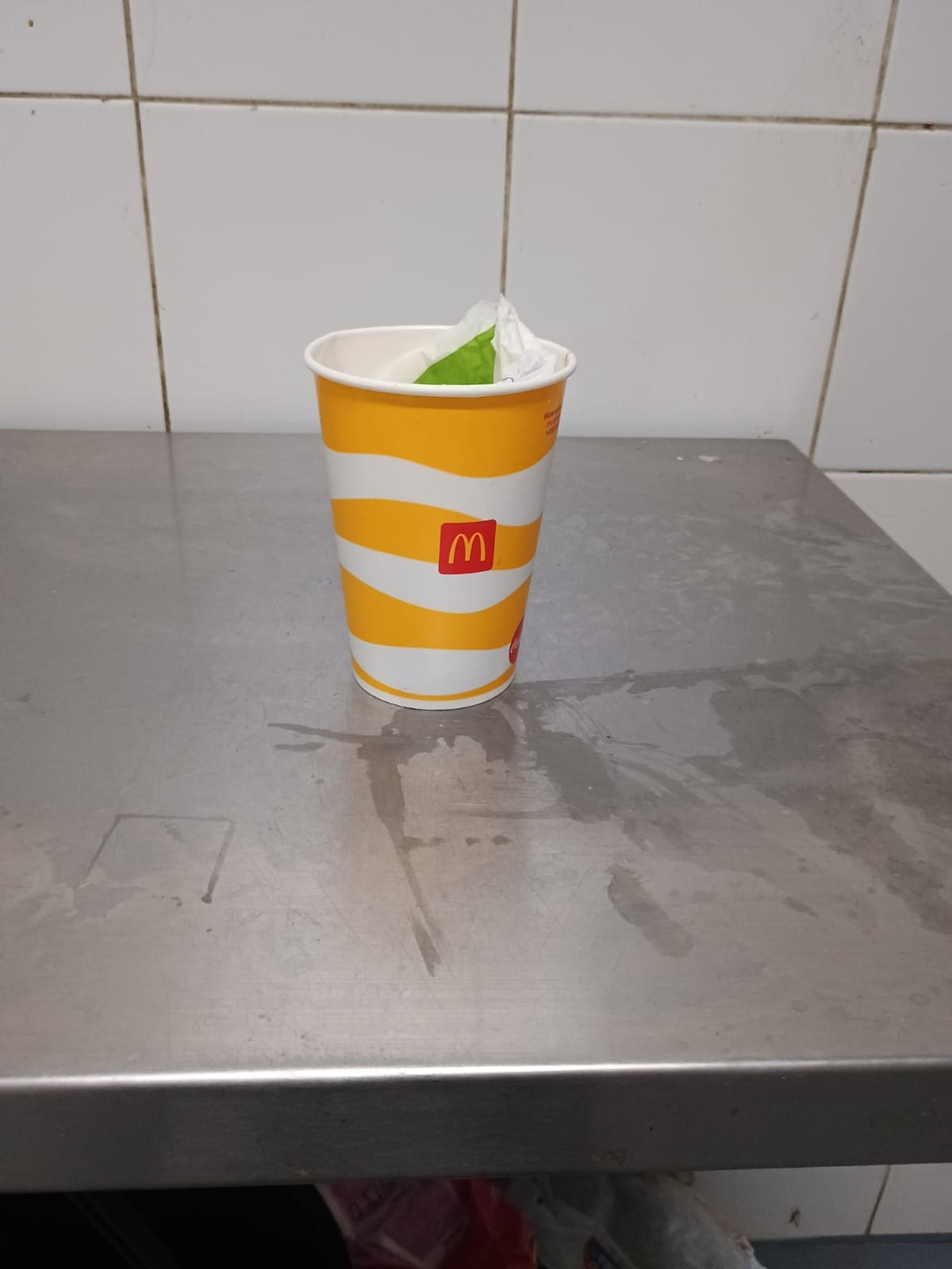Carton: (303, 320, 575, 710)
